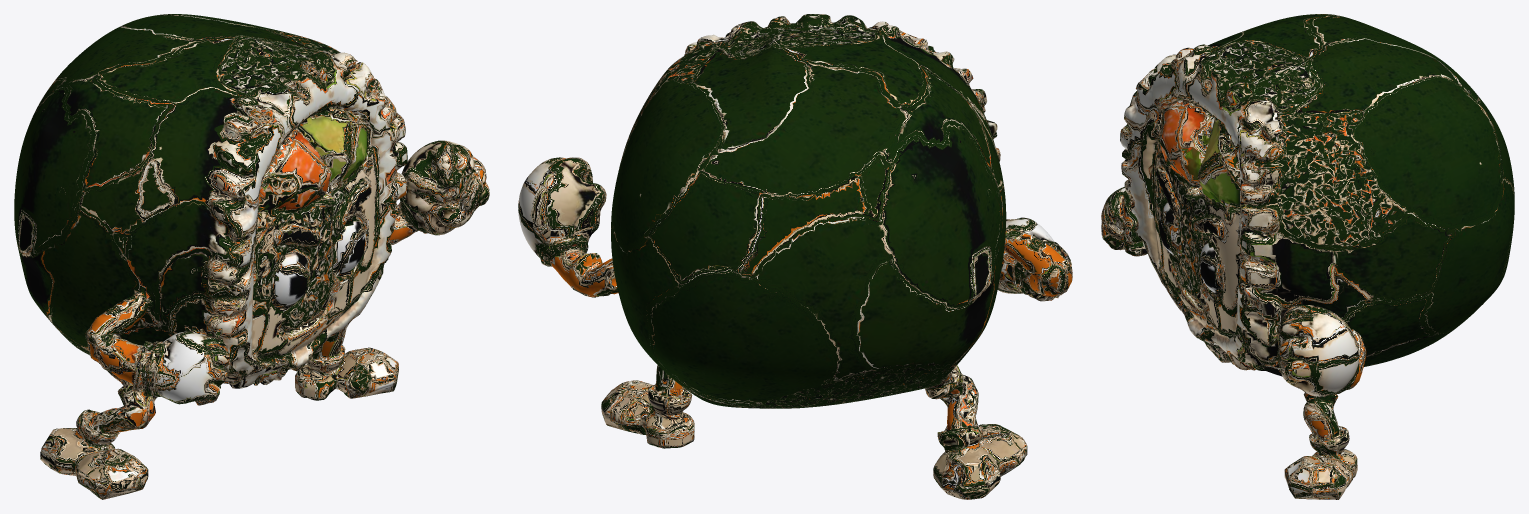
File: player_model_optimized.glb
The picture shows the model from 3 angles, left to right: view 1: azimuth 30°, elevation 25°; view 2: azimuth 150°, elevation 25°; view 3: azimuth 270°, elevation 25°; orthographic projection. The views are drawn at different scales.
Visible parts, largest first — view 1: uploaded_player_model; view 2: uploaded_player_model; view 3: uploaded_player_model.
Part boxes in pixels (<box>): uploaded_player_model: <box>14,14,489,499</box>; uploaded_player_model: <box>518,14,1072,499</box>; uploaded_player_model: <box>1101,14,1514,499</box>.
Bounding box in the file's own units: 0.9695 × 0.7823 × 0.7923.
1 material, 1 textured.
